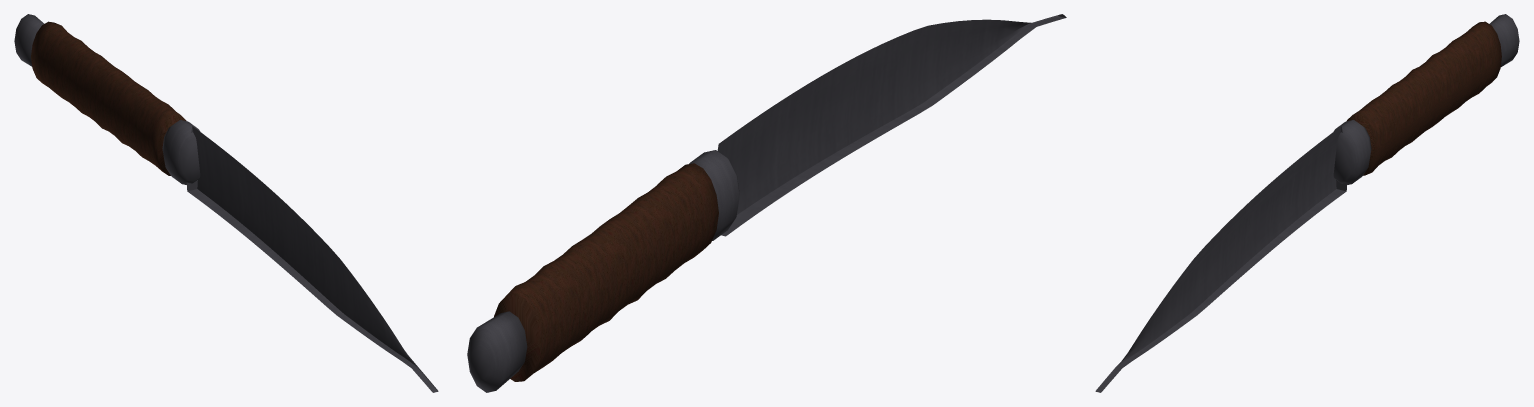
The model's file is weapon_seam_knife.glb.
3 views of the same model, side by side, from view 1: azimuth 30°, elevation 25°; view 2: azimuth 150°, elevation 25°; view 3: azimuth 330°, elevation 25° (orthographic). The views are drawn at different scales.
Parts seen in each view (by area): view 1: seam_knife; view 2: seam_knife; view 3: seam_knife.
Boxes of the visible parts, x1,y1,x2,y2 form: seam_knife: (14, 14, 438, 392); seam_knife: (467, 14, 1066, 392); seam_knife: (1095, 14, 1519, 392).
Size of the model in its own units: 0.0198 by 0.0484 by 0.407.
2 materials, 2 textured.
